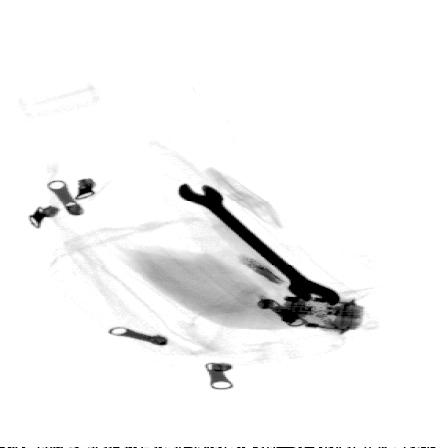Wrench: (175, 180, 344, 307)
